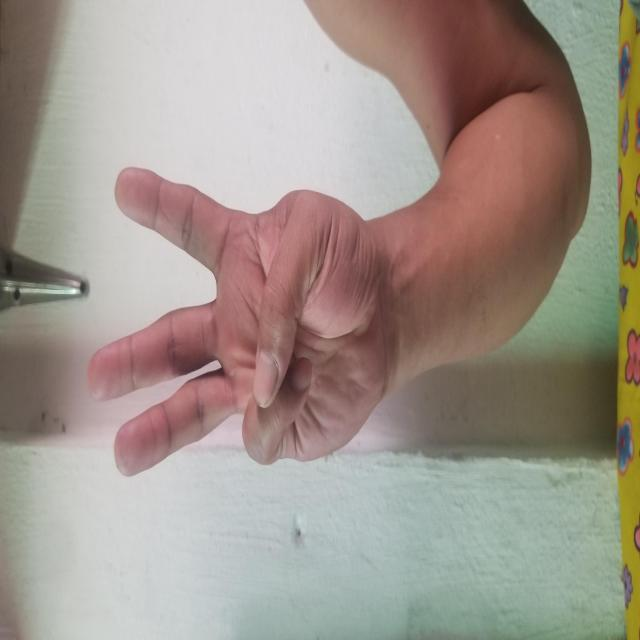W: (161, 87, 476, 381)
